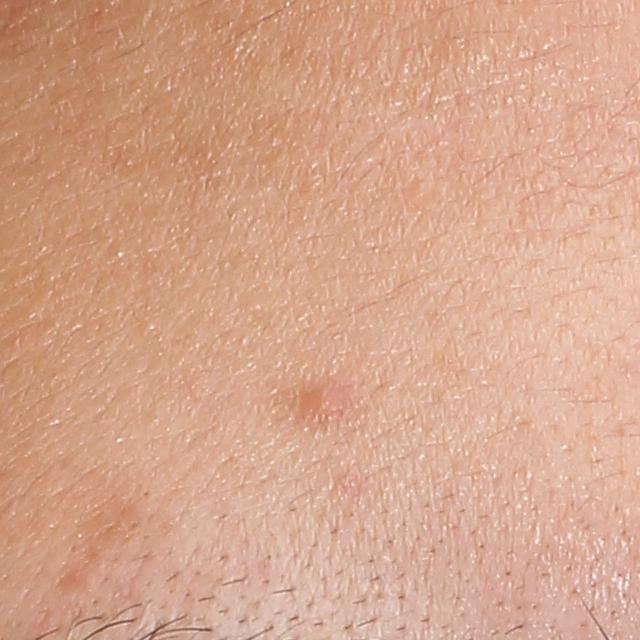papule: (303, 379, 347, 416)
